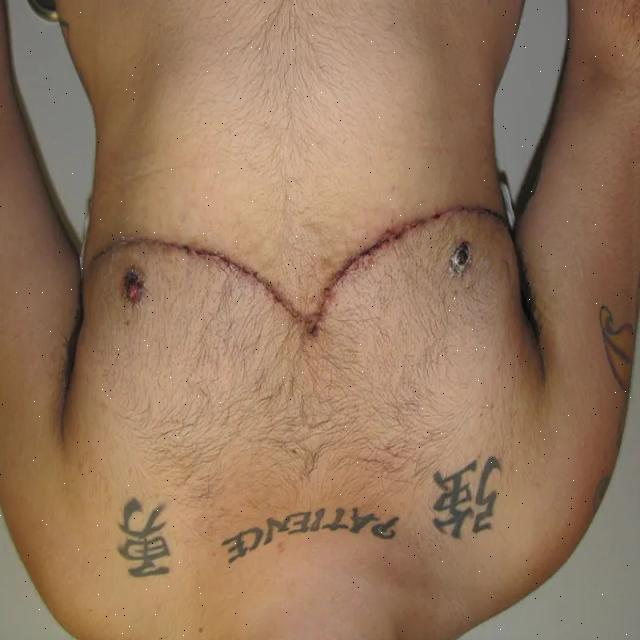Seno herido: (310, 174, 530, 412), (72, 203, 308, 418)
